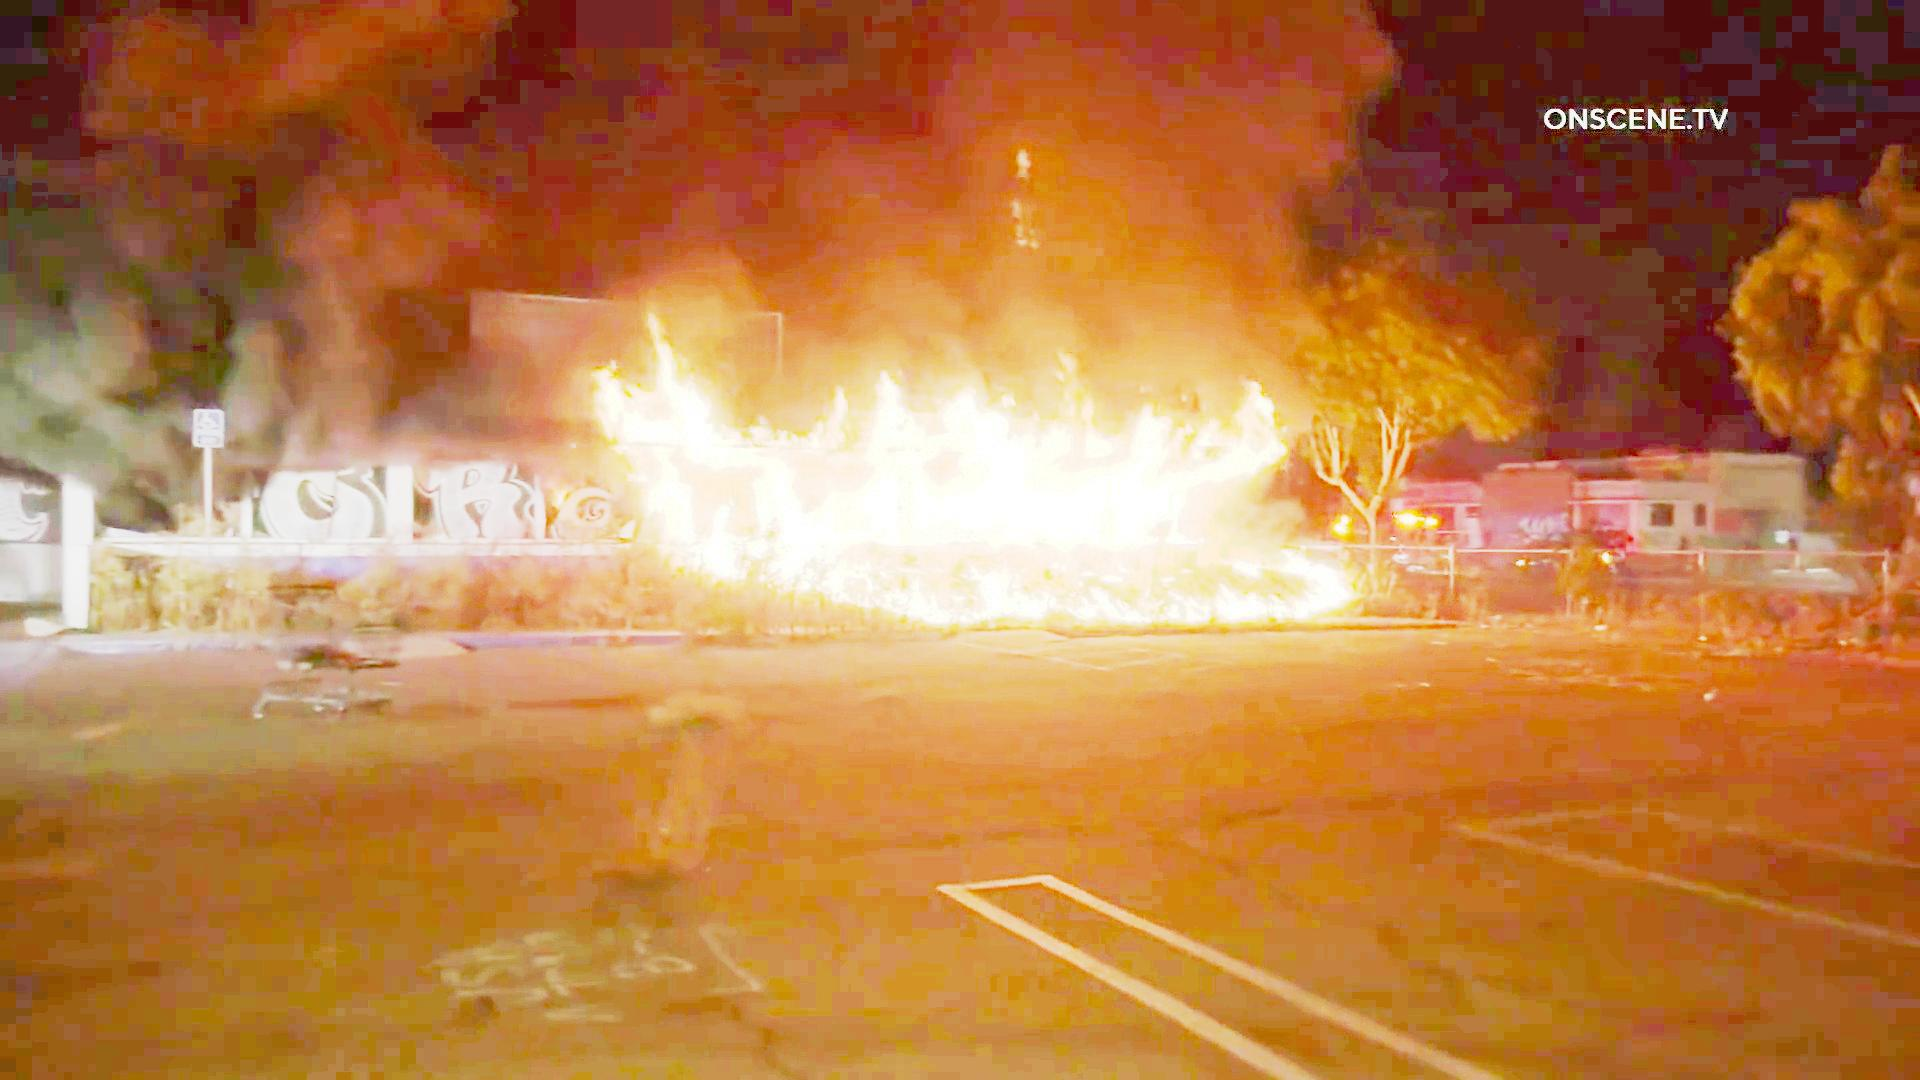fire: (603, 323, 1373, 633)
